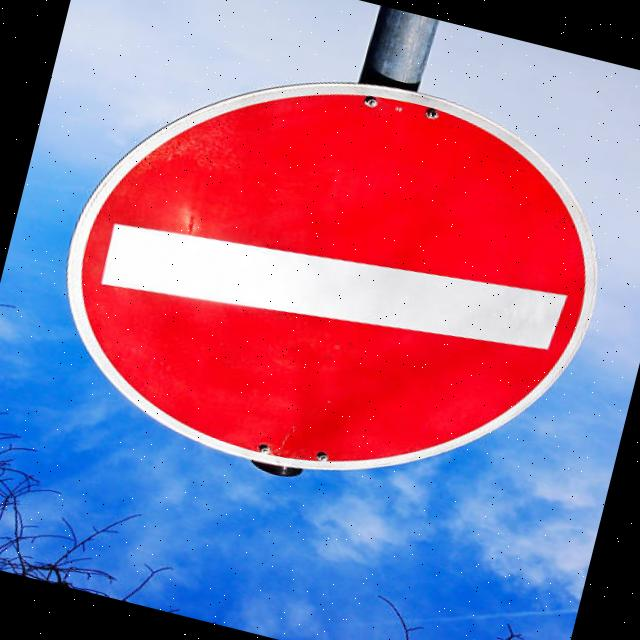do_not_enter: (7, 0, 640, 545)
